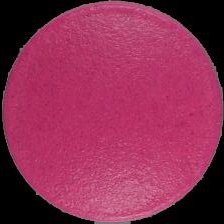68788-9013: (0, 0, 224, 224)
